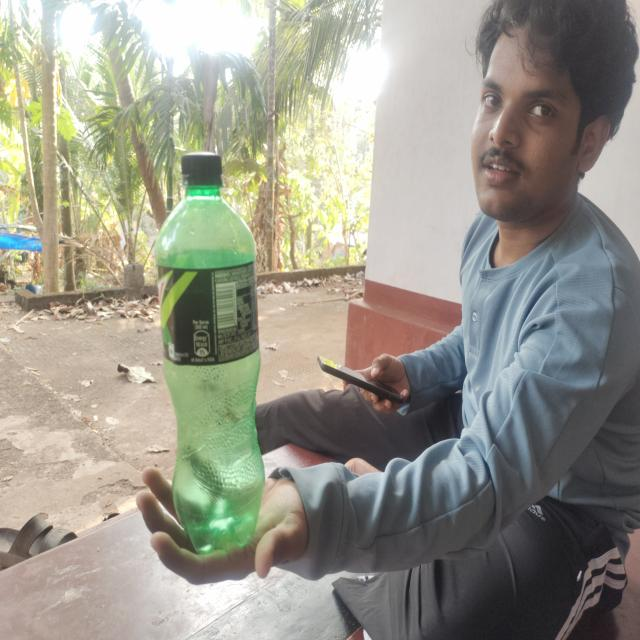plastic: (151, 144, 268, 556)
